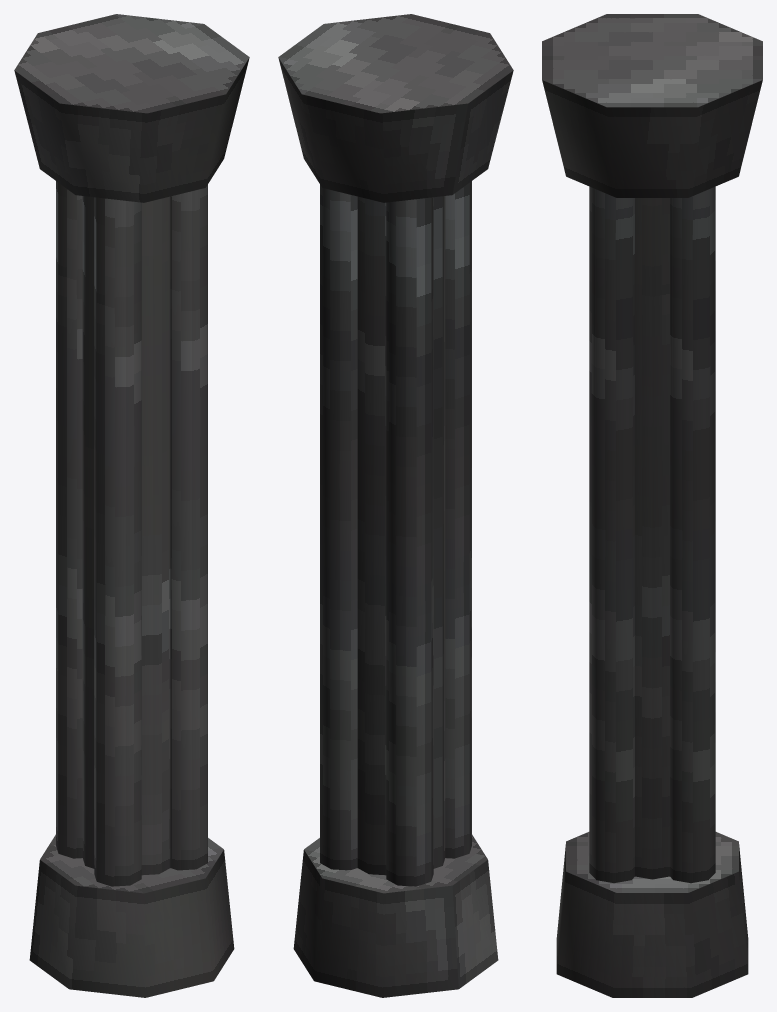
The model's file is pillar_gothic.glb.
3 views of the same model, side by side, from view 1: azimuth 30°, elevation 25°; view 2: azimuth 150°, elevation 25°; view 3: azimuth 270°, elevation 25° (orthographic).
Visible parts, largest first — view 1: pillar_gothic; view 2: pillar_gothic; view 3: pillar_gothic.
Part boxes in pixels (x1,y1,x2,y2): pillar_gothic: [14, 14, 249, 997]; pillar_gothic: [278, 14, 513, 997]; pillar_gothic: [542, 14, 762, 997].
Size of the model in its own units: 0.8925 by 4 by 0.8925.
Materials: 1 (1 with a texture image).
